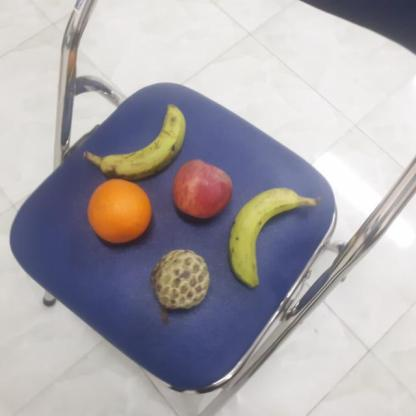annona: (146, 248, 213, 310)
apple: (169, 158, 236, 220)
banana: (225, 187, 308, 289), (97, 99, 190, 181)
orange: (85, 178, 157, 248)
